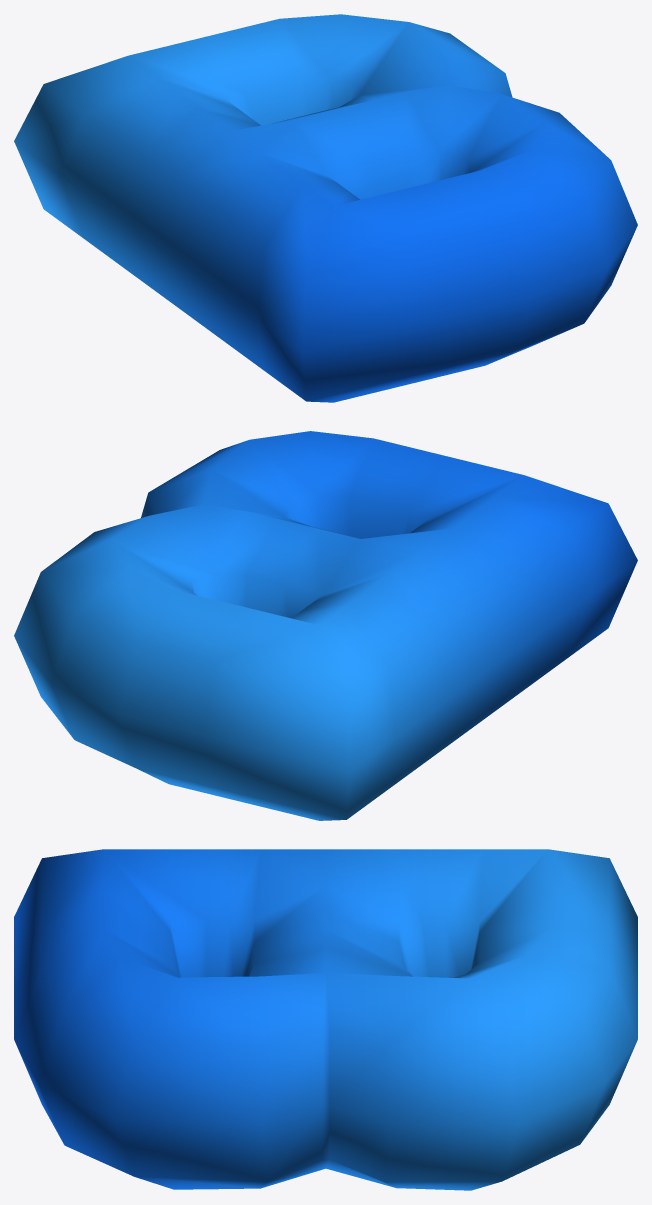
The model's file is CartoonFont_B.FBX.
3 views of the same model, one above another, from view 1: azimuth 30°, elevation 25°; view 2: azimuth 150°, elevation 25°; view 3: azimuth 270°, elevation 25° (orthographic). The views are drawn at different scales.
Visible parts, largest first — view 1: B; view 2: B; view 3: B.
Part boxes in pixels (x1,y1,x2,y2): B: (14, 14, 637, 402); B: (14, 431, 637, 820); B: (14, 849, 637, 1190).
Size of the model in its own units: 22.52 by 10.75 by 28.67.
1 material, 1 textured.
